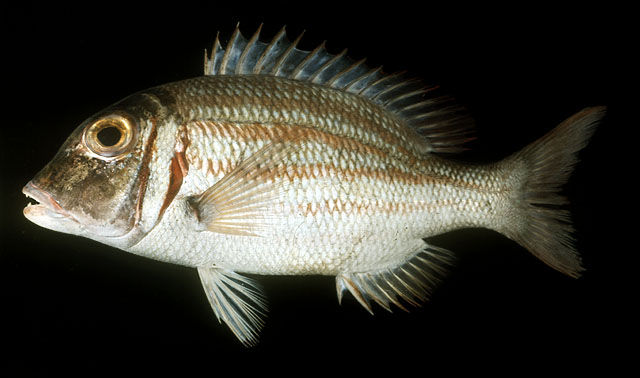fish: (19, 22, 605, 351)
